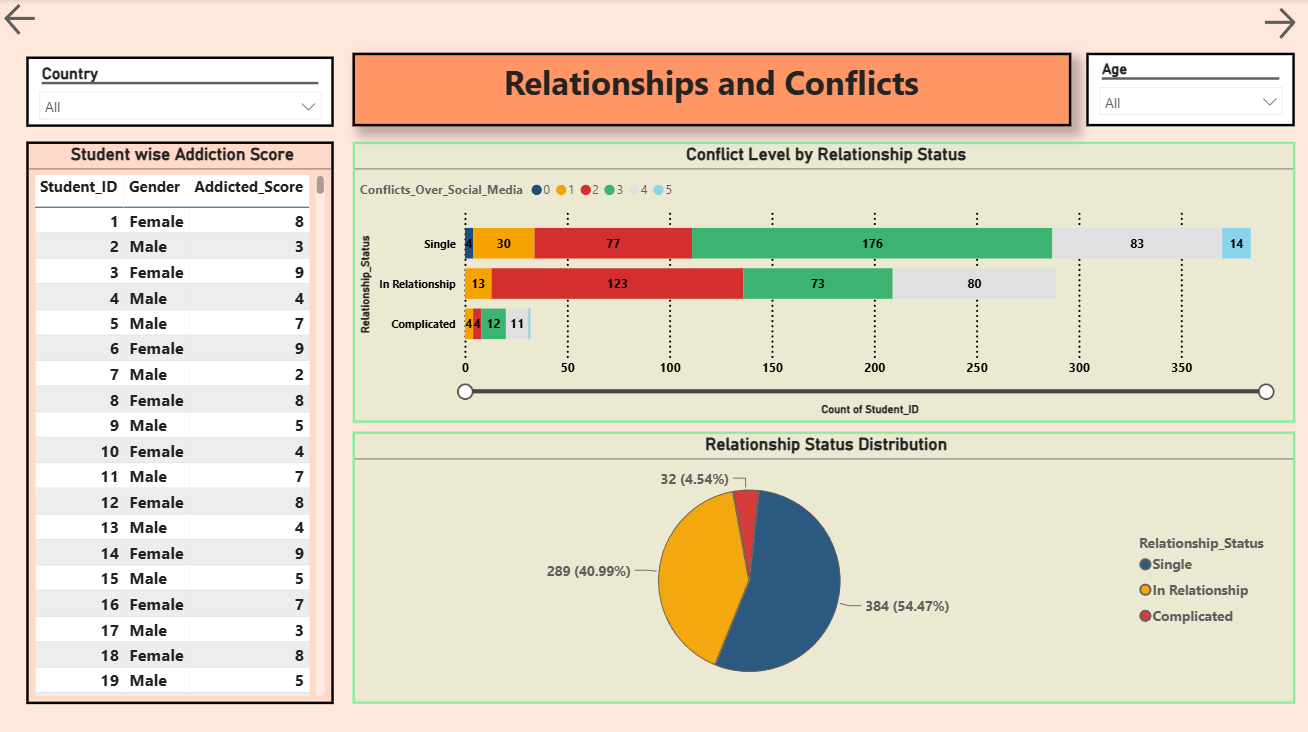

The page's visual inventory and layout, read from the dashboard file:
{"tool":"powerbi","page":{"name":"Relationships and Conflicts","canvas":[1280,720],"ordinal":4},"visuals":[{"type":"barChart","title":"Conflict Level by Relationship Status","fields":{"Category":["Student Details.Relationship_Status"],"Y":["CountNonNull(Student Details.Student_ID)"],"Series":["Student Details.Conflicts_Over_Social_Media"]},"box":[344.8,139.4,922,275.1],"z":0},{"type":"tableEx","title":"Student wise Addiction Score","fields":{"Values":["Student Details.Student_ID","Student Details.Gender","Student Details.Addicted_Score"]},"box":[25.7,139.4,300.8,550.3],"z":1000},{"type":"pieChart","title":"Relationship Status Distribution","fields":{"Category":["Student Details.Relationship_Status"],"Y":["Count(Student Details.Student_ID)"]},"box":[344.8,423.1,922,266.6],"z":2000},{"type":"slicer","fields":{"Values":["Student Details.Country"]},"box":[25.7,56.3,300.8,68.5],"z":3000},{"type":"slicer","fields":{"Values":["Student Details.Age"]},"box":[1062.6,52.6,204.2,72.1],"z":4000},{"type":"textbox","box":[344.8,52.6,703.1,72.1],"z":5000},{"type":"actionButton","box":[0,0,100,40],"z":10000},{"type":"actionButton","box":[1231.4,3.7,48.9,40.4],"z":11000}]}

Visuals, with their boxes in screenshot pixels (x1, y1, x2, y2), scaled from the page's 1280x720 canvas onto the 1308x732 screenshot:
"Conflict Level by Relationship Status" barChart: Rect(352, 142, 1295, 421)
"Student wise Addiction Score" tableEx: Rect(26, 142, 334, 701)
"Relationship Status Distribution" pieChart: Rect(352, 430, 1295, 701)
slicer - Student Details.Country: Rect(26, 57, 334, 127)
slicer - Student Details.Age: Rect(1086, 53, 1295, 127)
textbox: Rect(352, 53, 1071, 127)
actionButton: Rect(0, 0, 102, 41)
actionButton: Rect(1258, 4, 1307, 45)
